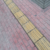others: (5, 1, 49, 49)
